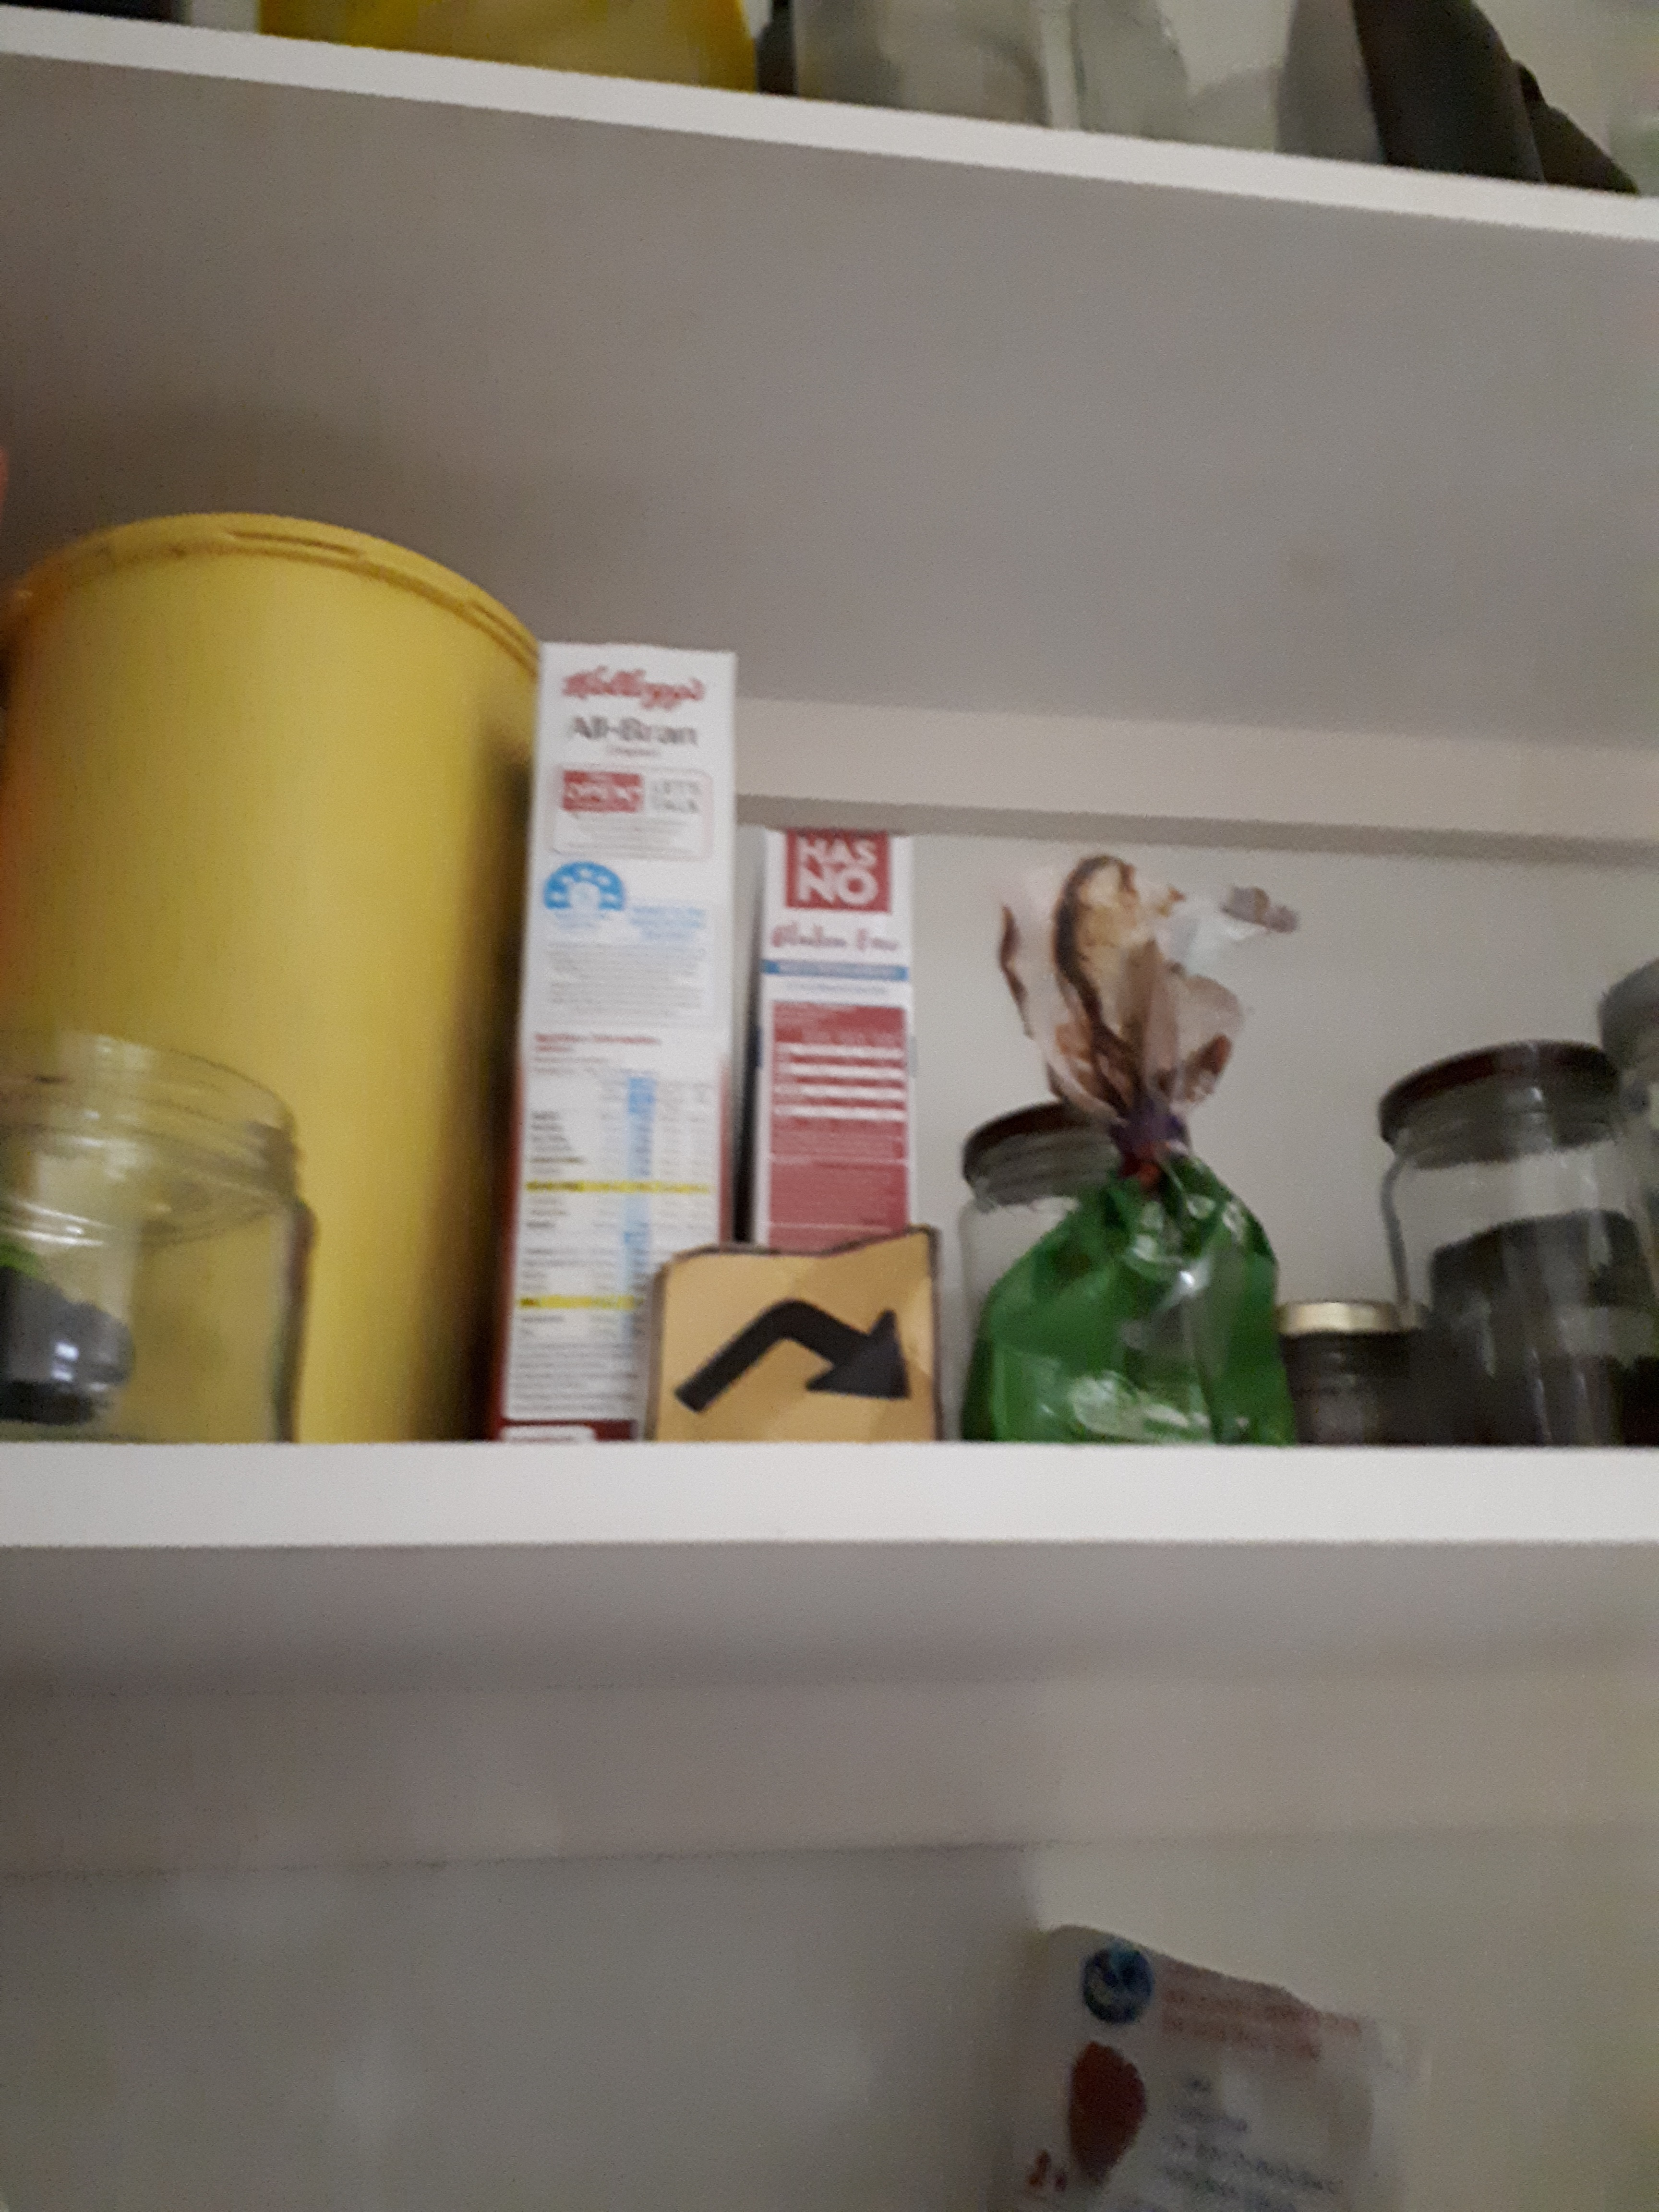right: (572, 1184, 1087, 1487), (667, 1261, 899, 1430)
